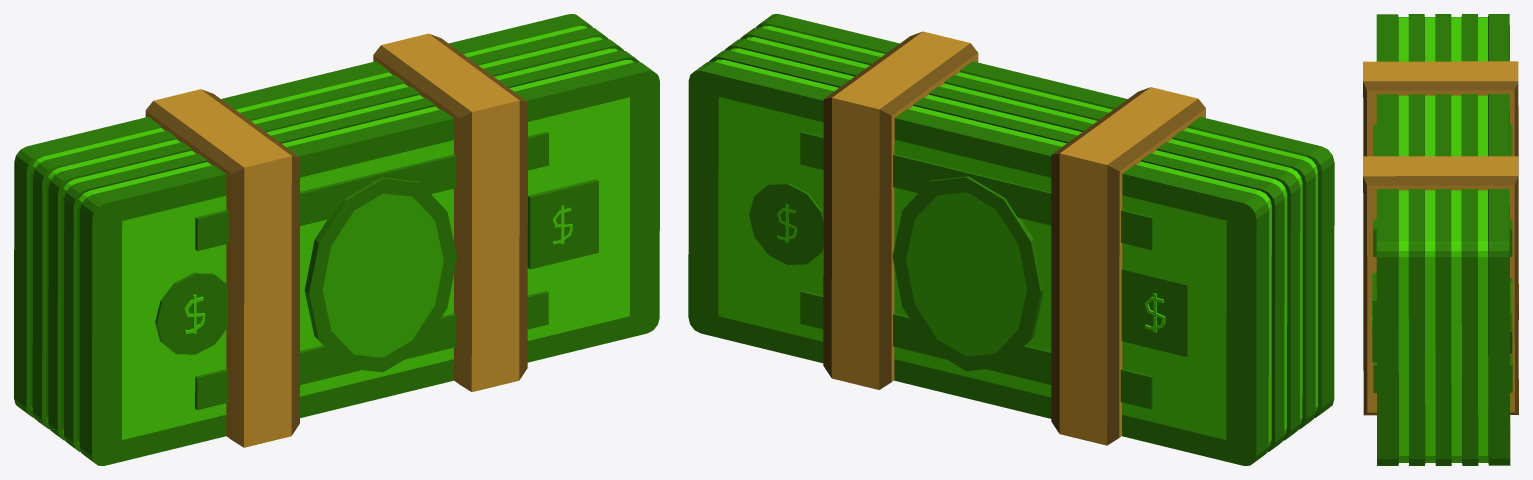
The model's file is dolar.fbx.
The picture shows the model from 3 angles, left to right: view 1: azimuth 30°, elevation 25°; view 2: azimuth 150°, elevation 25°; view 3: azimuth 270°, elevation 25°; orthographic projection. The views are drawn at different scales.
Visible parts, largest first — view 1: dolar2; view 2: dolar2; view 3: dolar2.
Boxes of the visible parts, x1=… form: dolar2: x1=14, y1=14, x2=659, y2=465; dolar2: x1=688, y1=14, x2=1334, y2=465; dolar2: x1=1363, y1=14, x2=1518, y2=465.
Bounding box in the file's own units: 224 × 106 × 62.38.
